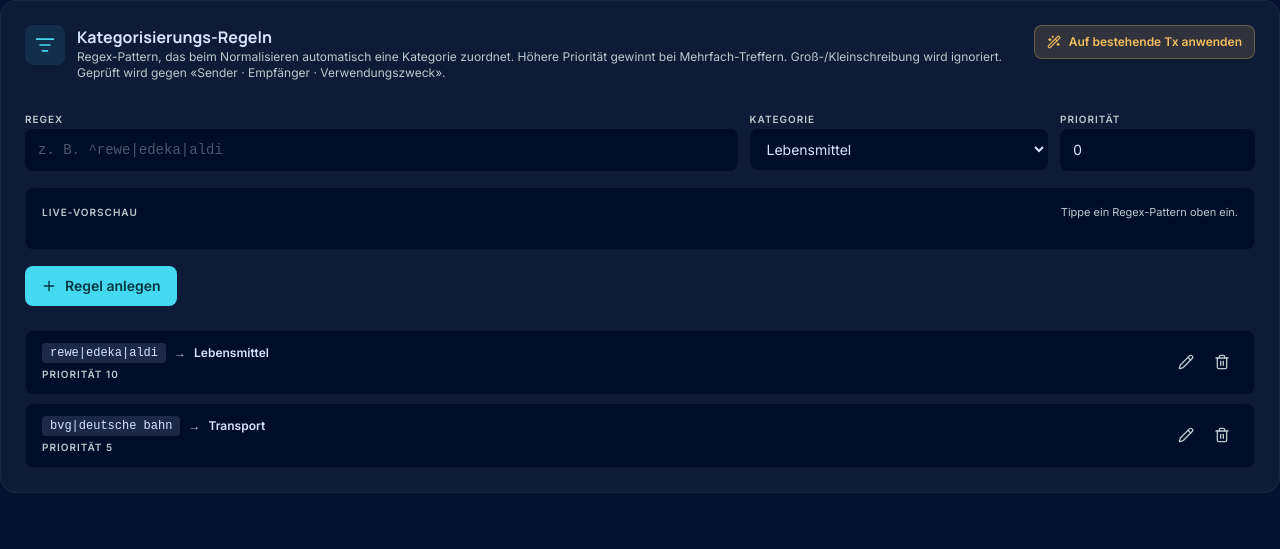
Test: RulesSection › counts and highlights matches against the transaction sample
The image size is (1280, 549).
In the field labelled "Regex": {"x": 381, "y": 150} [25,129,738,171], type "rewe|edeka"
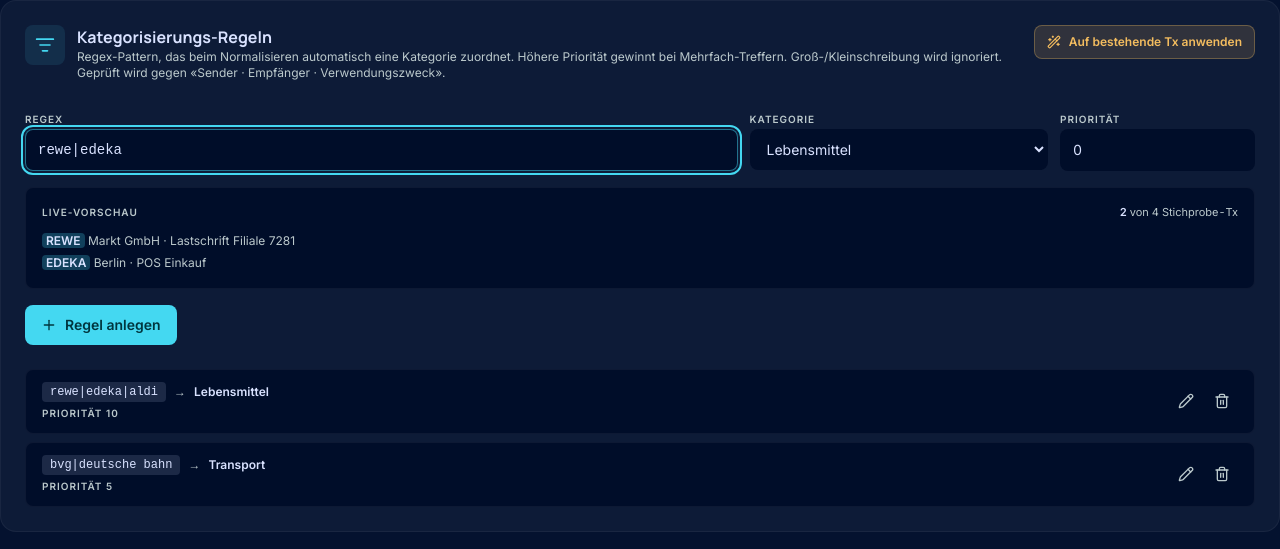
Result: the element named "Live-Vorschau-Hits" reads "2 von 4 Stichprobe-Tx" at [1120,204,1238,220]
